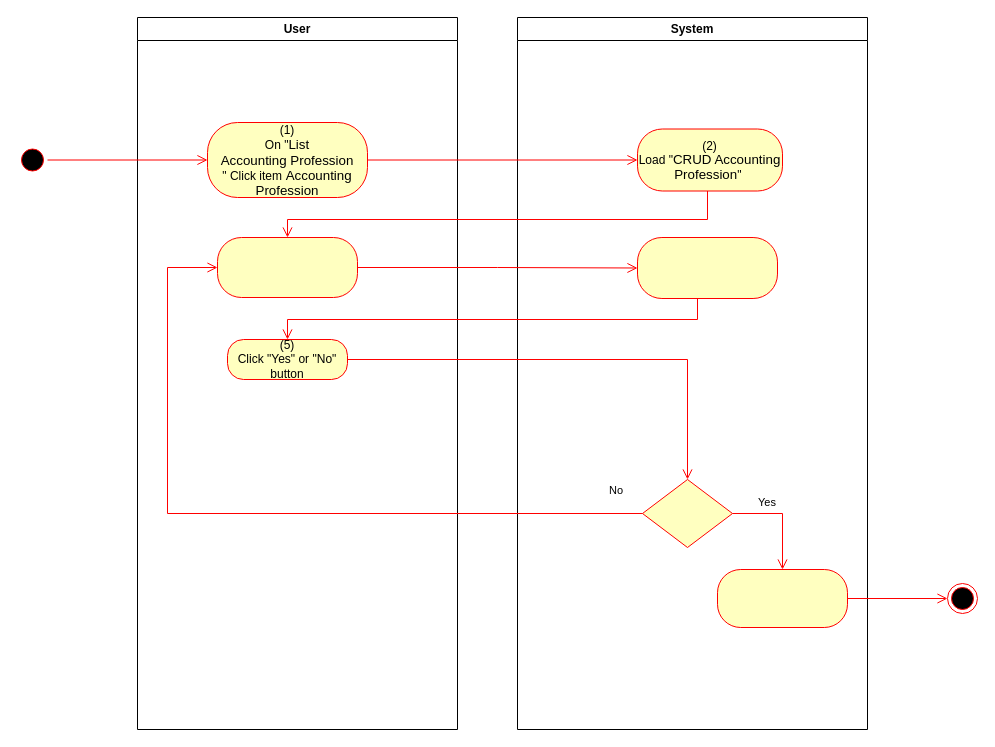
Image size: 995x747. Some labels were removed from this diagram. Here are the shapes that lost their labels. From the top down, the centre of each, then its label:
point 287,267: (3) Click button "Xóa " on item Record Transaction
point 707,267: (4) Load " Yes/No dialog"
point 782,598: (5.1) Delete Record Transaction on UI
